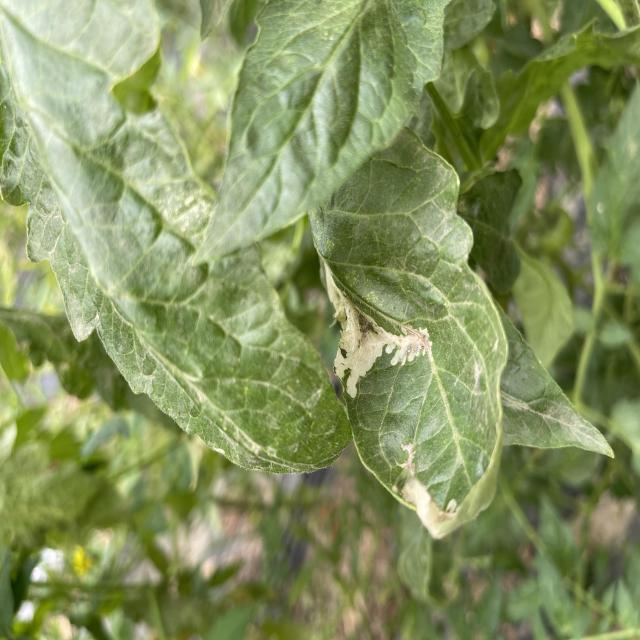Tuta absoluta: (285, 241, 437, 400), (388, 473, 463, 542)
